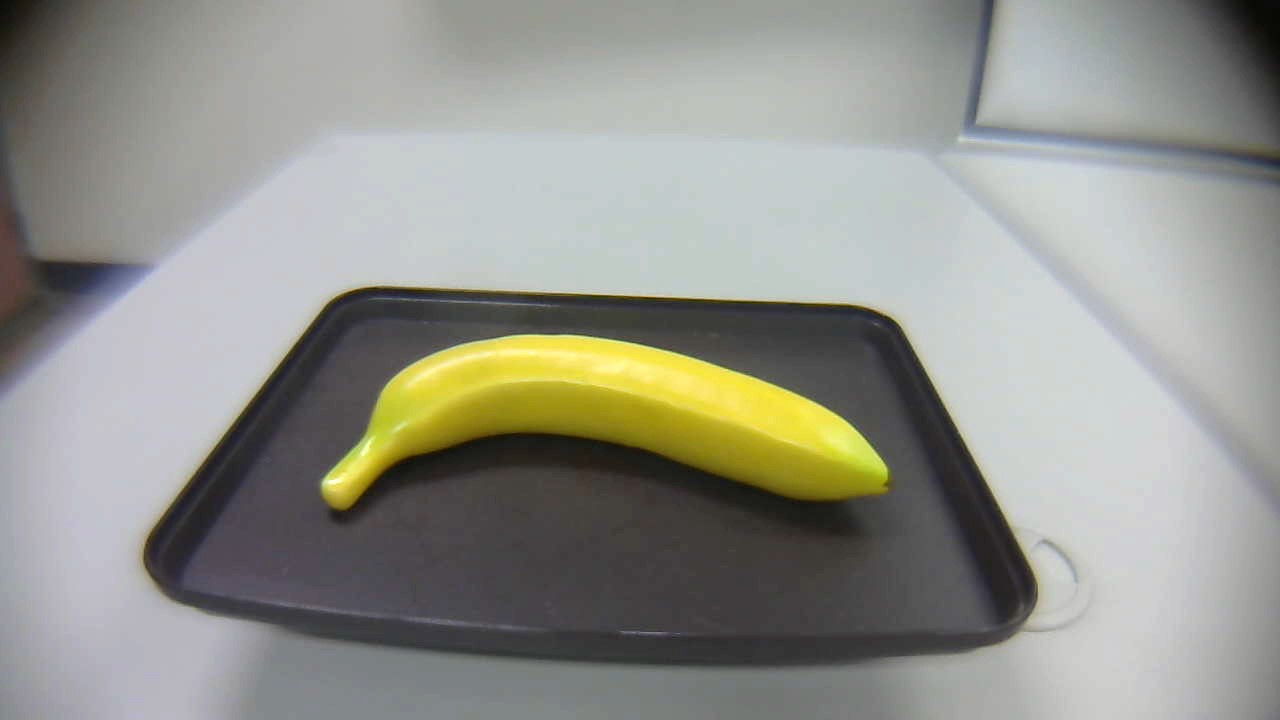banana: (310, 324, 897, 526)
